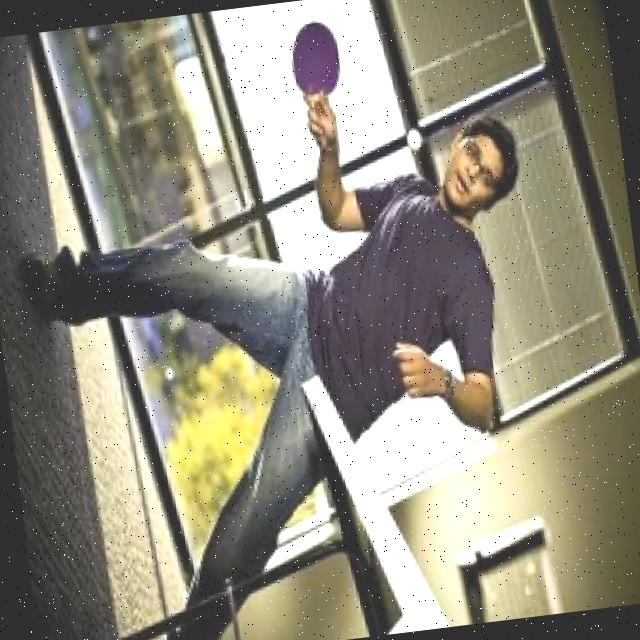ping-pong-ball: (398, 124, 427, 158)
